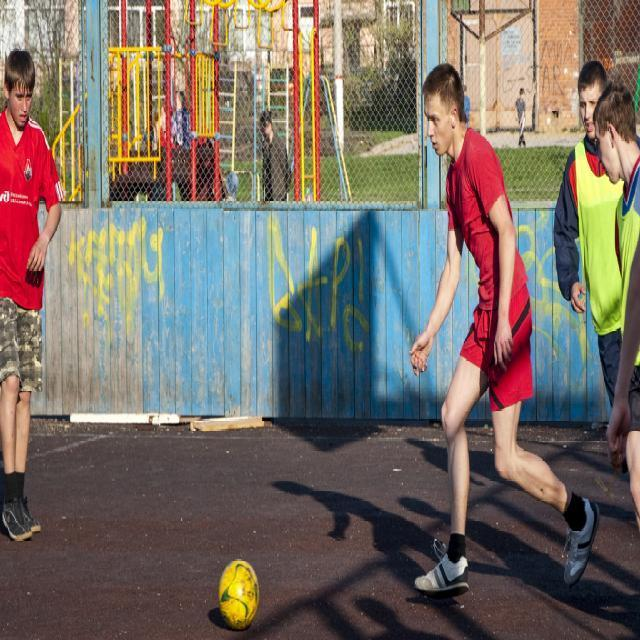football: (212, 545, 282, 631)
